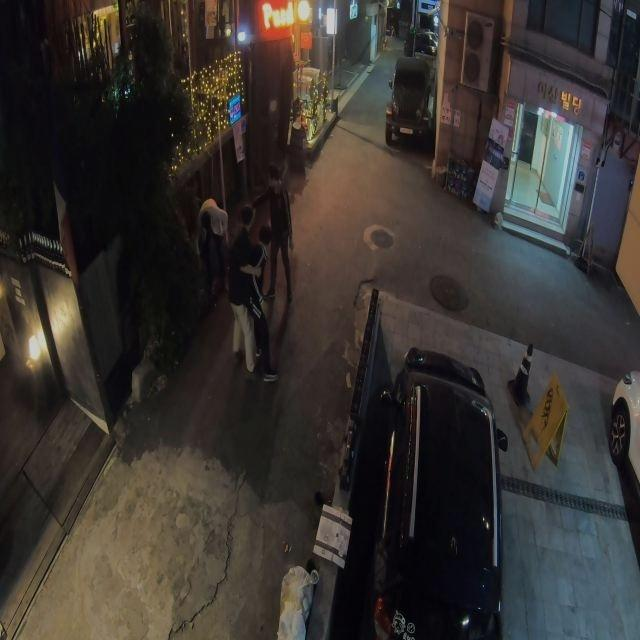fight: (189, 159, 290, 382)
